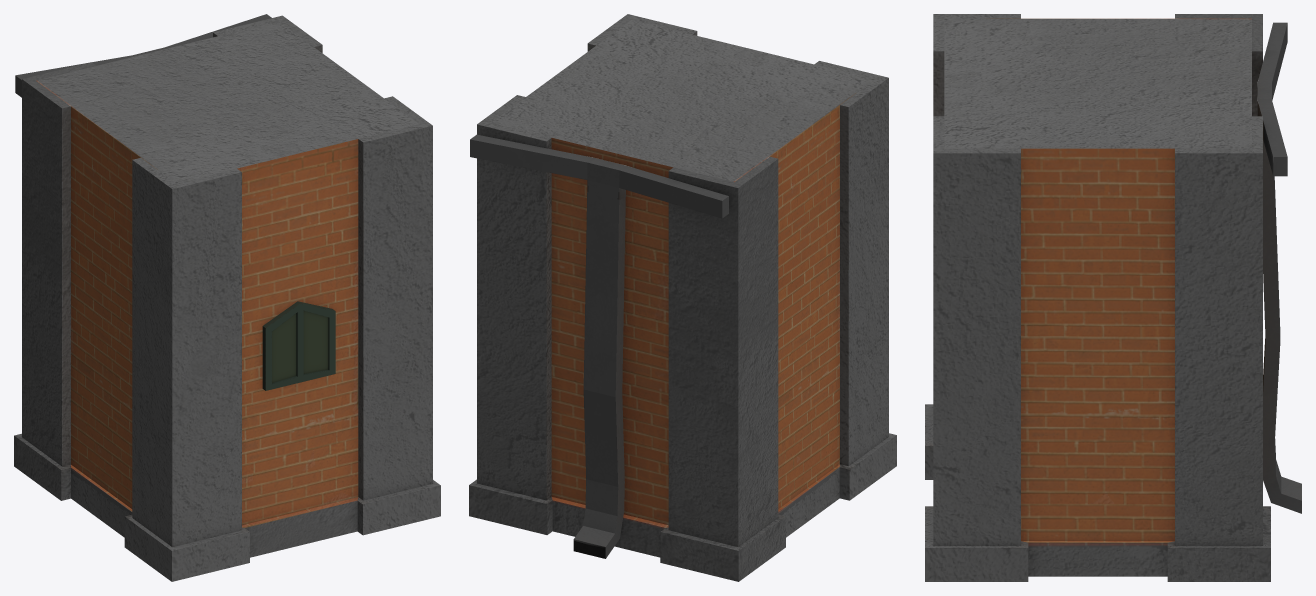
File: Block1.fbx
3 views of the same model, side by side, from view 1: azimuth 30°, elevation 25°; view 2: azimuth 150°, elevation 25°; view 3: azimuth 270°, elevation 25° (orthographic). The views are drawn at different scales.
Parts seen in each view (by area): view 1: Cube.001; view 2: Cube.001; view 3: Cube.001.
Part boxes in pixels (<box>): Cube.001: <box>14,14,440,581</box>; Cube.001: <box>469,14,896,581</box>; Cube.001: <box>925,14,1301,581</box>.
Size of the model in its own units: 1228 by 1697 by 1359.
